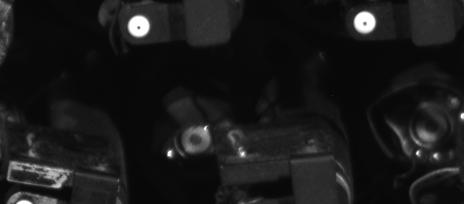fiber: (348, 6, 381, 37), (123, 13, 155, 40)
